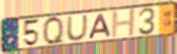3: (137, 7, 157, 36)
5: (22, 18, 41, 48)
A: (87, 12, 114, 40)
H: (110, 7, 137, 40)
Q: (41, 15, 66, 46)
U: (65, 14, 89, 42)
